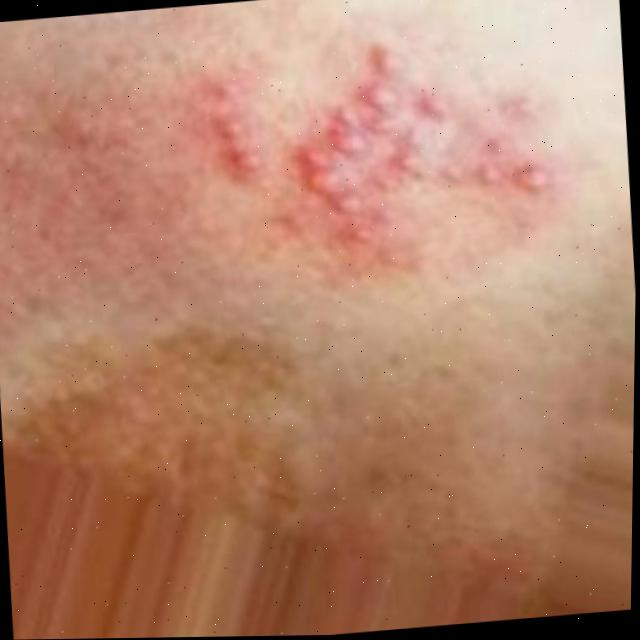Shingles: (204, 29, 553, 266)
